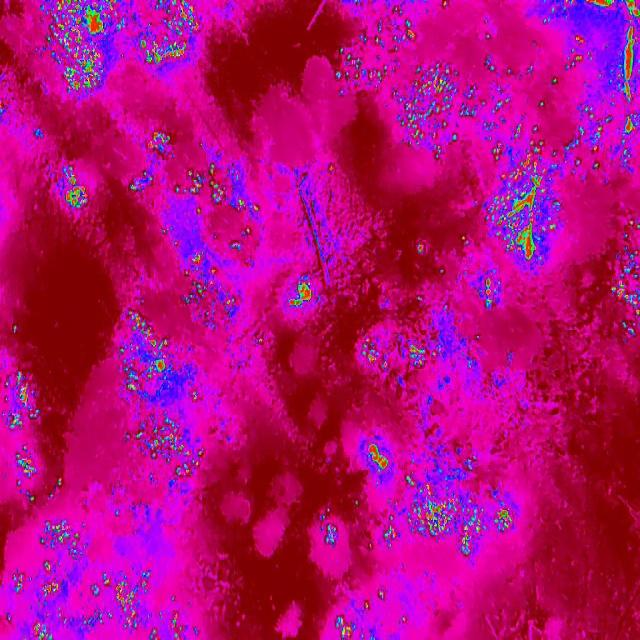fire: (332, 0, 484, 166), (342, 432, 518, 562), (0, 522, 192, 640), (478, 48, 579, 270), (111, 310, 211, 490), (37, 0, 207, 96), (126, 128, 264, 226), (566, 0, 640, 150), (0, 362, 54, 512), (347, 316, 445, 382), (182, 234, 256, 314), (322, 593, 415, 639), (611, 216, 640, 346), (58, 156, 94, 218), (476, 267, 506, 315), (288, 273, 318, 319), (316, 523, 344, 551)
